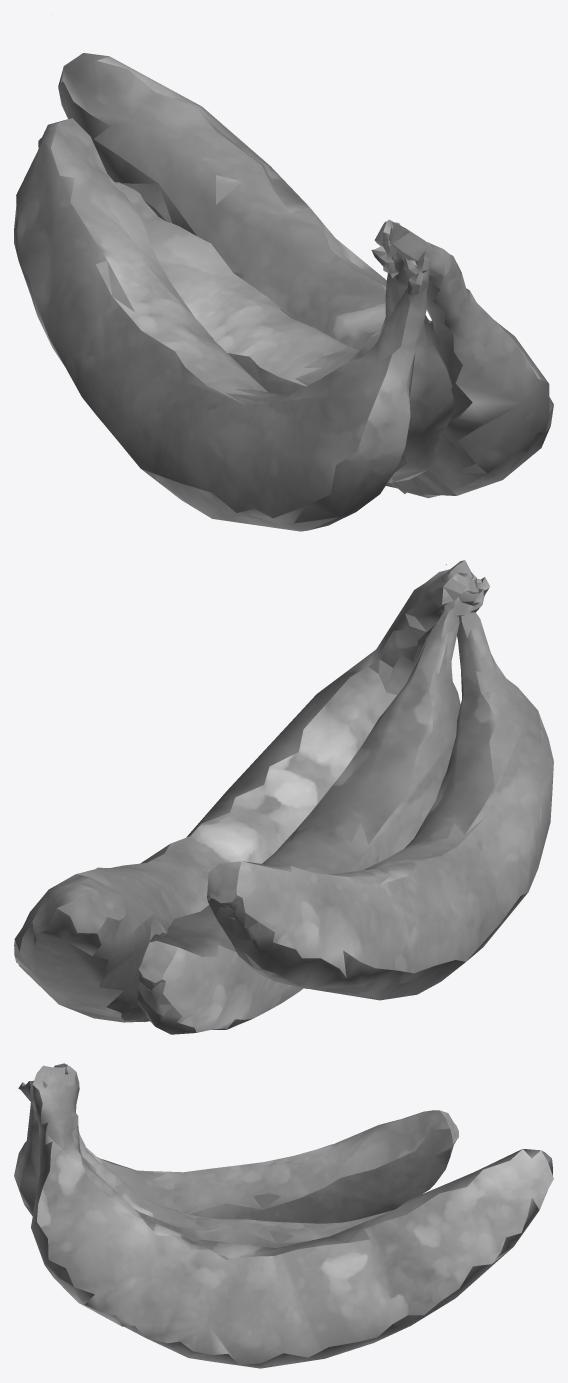
File: SM_BananaCluster_01b.fbx
3 renders of one model, top to bottom at view 1: azimuth 30°, elevation 25°; view 2: azimuth 150°, elevation 25°; view 3: azimuth 270°, elevation 25°, orthographic. The views are drawn at different scales.
Parts seen in each view (by area): view 1: SM_BananaCluster_01b_LOD0; view 2: SM_BananaCluster_01b_LOD0; view 3: SM_BananaCluster_01b_LOD0.
Part boxes in pixels (bbox=[...]): SM_BananaCluster_01b_LOD0: bbox=[14, 14, 553, 531]; SM_BananaCluster_01b_LOD0: bbox=[14, 560, 553, 1034]; SM_BananaCluster_01b_LOD0: bbox=[14, 1063, 553, 1368].
Bounding box in the file's own units: 11 × 21.75 × 11.15.
